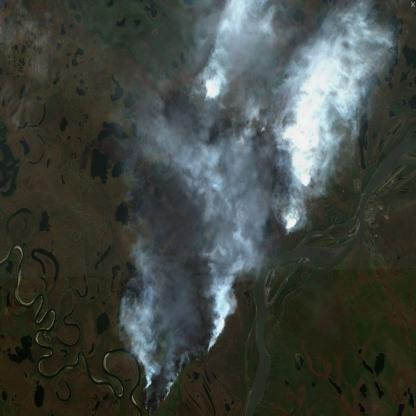fire: (271, 124, 314, 242), (199, 85, 220, 113)
